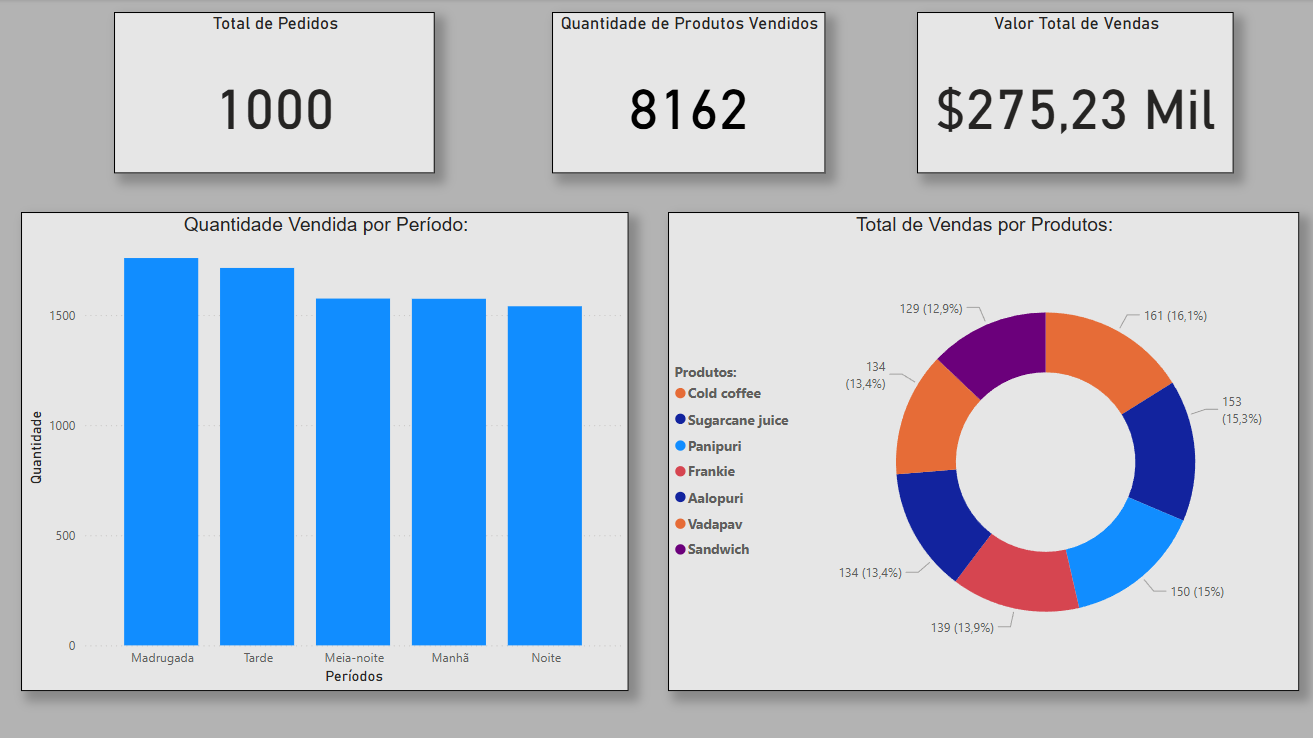

This screenshot's page, from the dashboard's own definition file:
{"tool":"powerbi","page":{"name":"Contagem Geral","canvas":[1280,720],"ordinal":0},"visuals":[{"type":"card","title":"Quantidade de Produtos Vendidos","fields":{"Values":["Sum(Balaji Fast Food Sales.quantity)"]},"box":[537.9,12.6,265.5,156.6],"z":0},{"type":"donutChart","title":"Total de Vendas por Produtos:","fields":{"Category":["Balaji Fast Food Sales.item_name"],"Y":["CountNonNull(Balaji Fast Food Sales.order_id)"]},"box":[650.8,207.5,613.6,465.5],"z":1000},{"type":"columnChart","title":"Quantidade Vendida por Período:","fields":{"Y":["Sum(Balaji Fast Food Sales.quantity)"],"Category":["Balaji Fast Food Sales.Período Formatado"]},"box":[21.3,207.5,591.4,465.5],"z":2000},{"type":"card","title":"Total de Pedidos","fields":{"Values":["CountNonNull(Balaji Fast Food Sales.order_id)"]},"box":[111.7,12.4,312.1,156.9],"z":3000},{"type":"card","title":"Valor Total de Vendas","fields":{"Values":["Sum(Balaji Fast Food Sales.transaction_amount)"]},"box":[892.9,12.6,308.3,156.6],"z":5000}]}

Visuals, with their boxes in screenshot pixels (x1, y1, x2, y2), scaled from the page's 1280x720 canvas onto the 1313x738 screenshot:
"Quantidade de Produtos Vendidos" card: Rect(552, 13, 824, 173)
"Total de Vendas por Produtos:" donutChart: Rect(668, 213, 1297, 690)
"Quantidade Vendida por Período:" columnChart: Rect(22, 213, 628, 690)
"Total de Pedidos" card: Rect(115, 13, 435, 174)
"Valor Total de Vendas" card: Rect(916, 13, 1232, 173)
